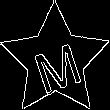M_N: (27, 29, 84, 92)
